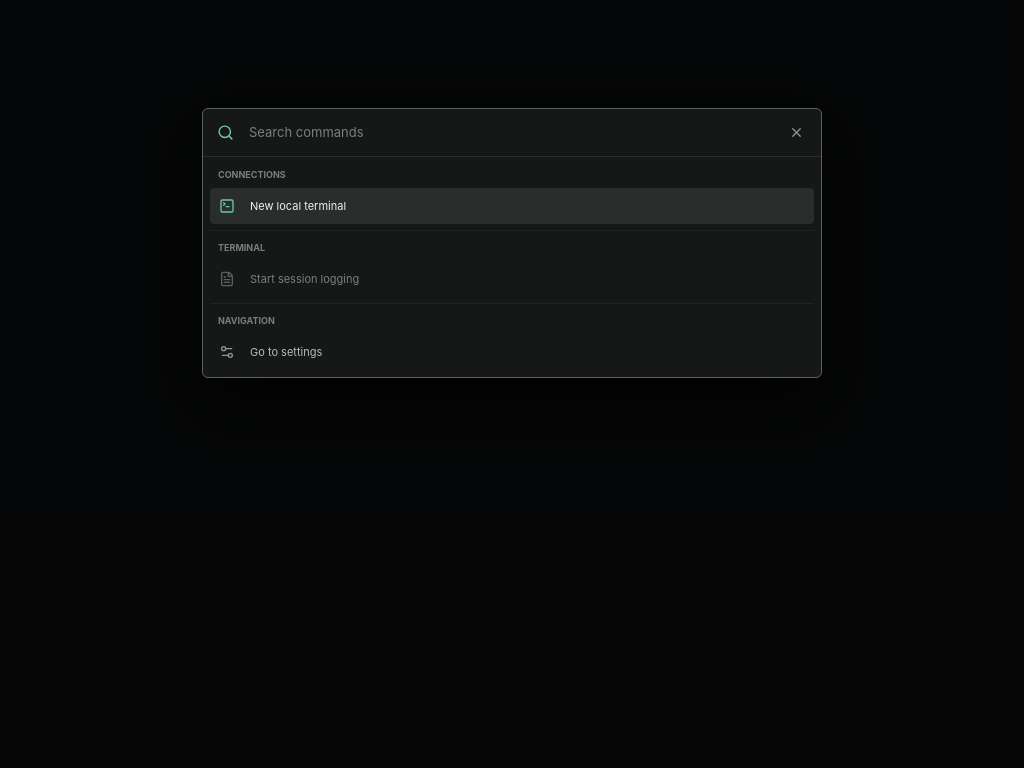
Test case: CommandPalette › filters commands by labels, groups, and keywords
In the field labelled "Search commands": [512, 132] box [247,108,777,156], type "preferences"
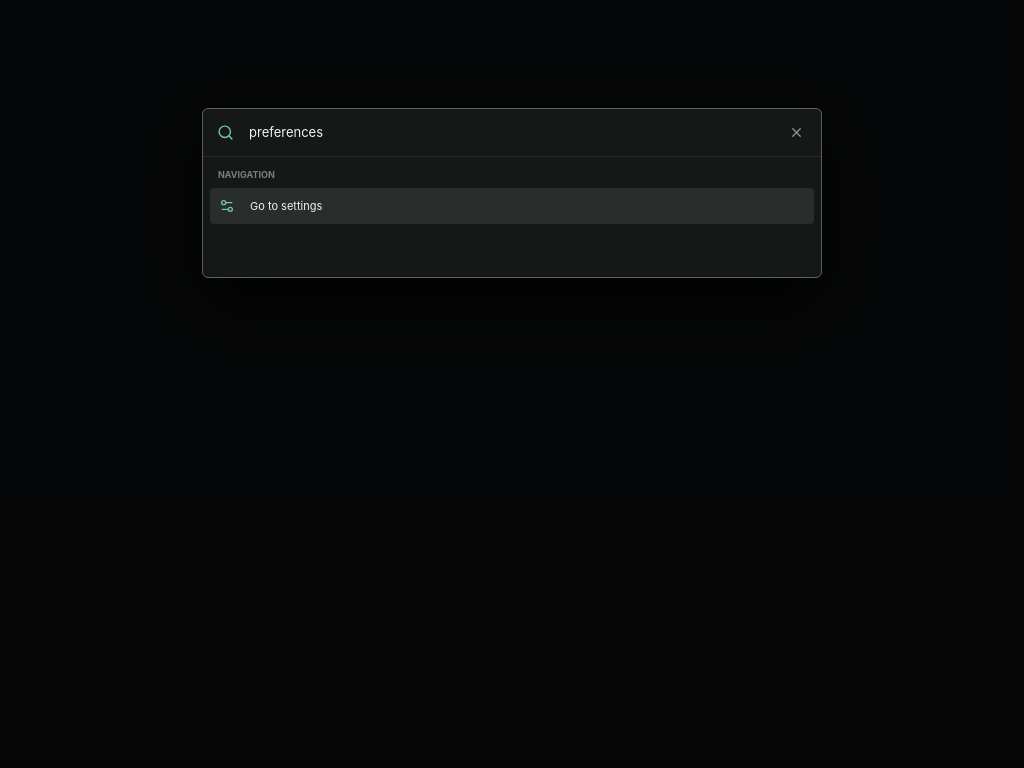
Expected: the option "Go to settings" is shown, [210,188,814,224]
Expected: the option "New local terminal" is gone
